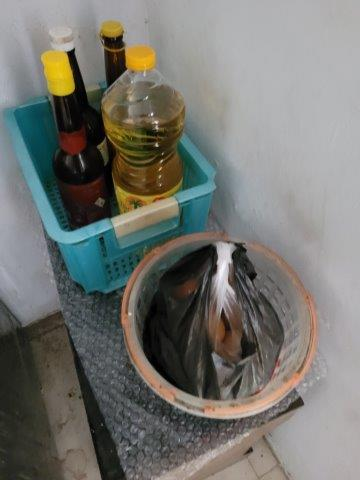botolkaca: (34, 52, 107, 223)
botolplastik: (103, 49, 188, 215)
plastik: (151, 242, 287, 397)
